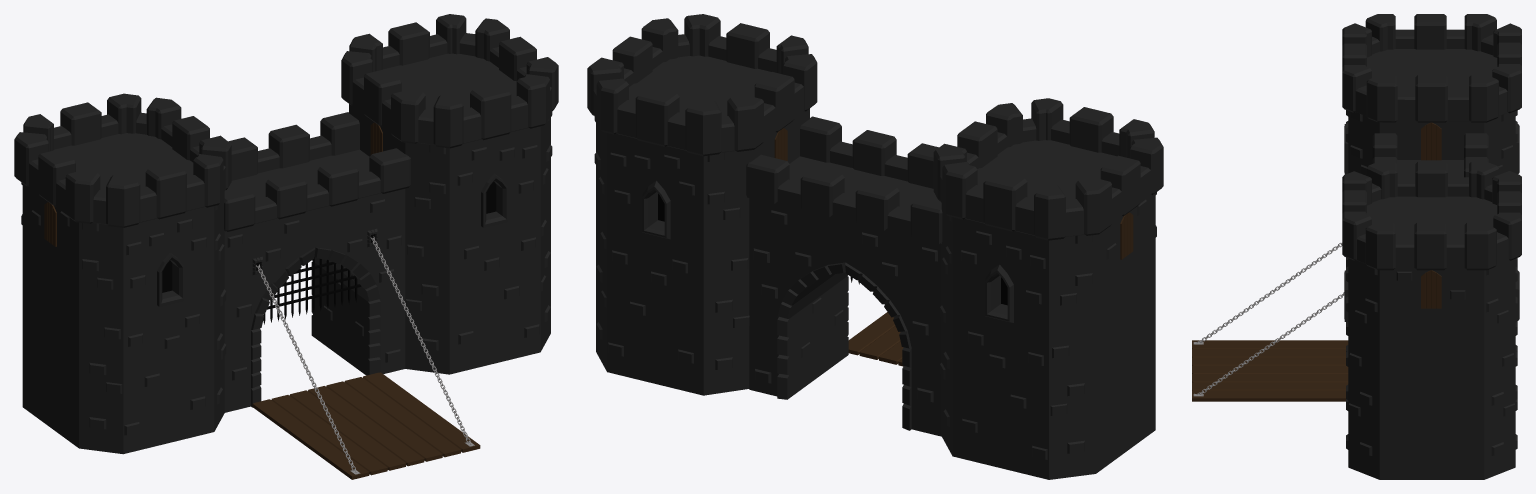
The model's file is Frontgate_001.fbx.
3 views of the same model, side by side, from view 1: azimuth 30°, elevation 25°; view 2: azimuth 150°, elevation 25°; view 3: azimuth 270°, elevation 25° (orthographic). The views are drawn at different scales.
Visible parts, largest first — view 1: frontgate; view 2: frontgate; view 3: frontgate.
Part boxes in pixels (bbox=[...]): frontgate: bbox=[14, 14, 558, 479]; frontgate: bbox=[587, 14, 1163, 479]; frontgate: bbox=[1192, 14, 1521, 479].
Size of the model in its own units: 3200 by 1707 by 2037.
